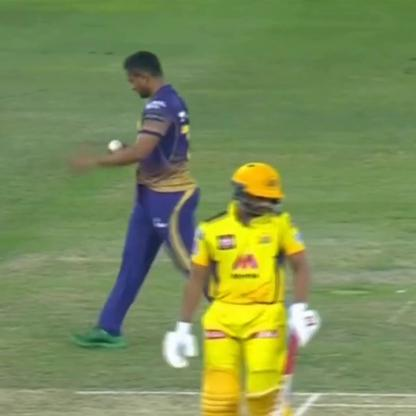ball: (108, 138, 128, 150)
